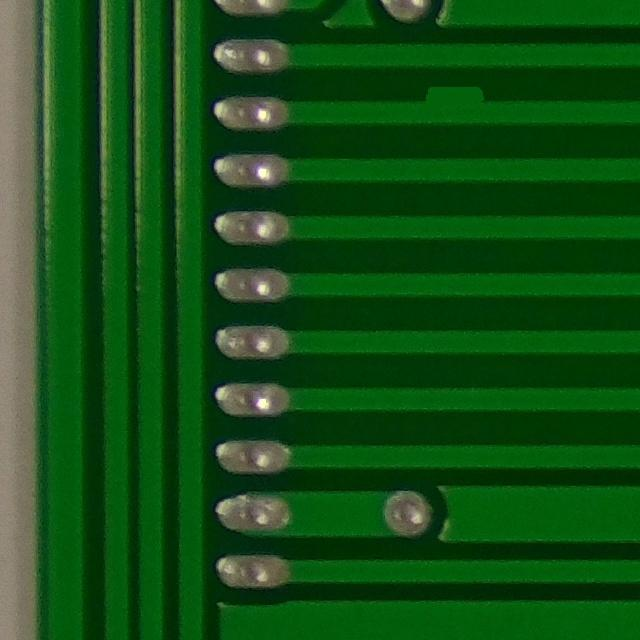spur: (400, 75, 502, 128)
